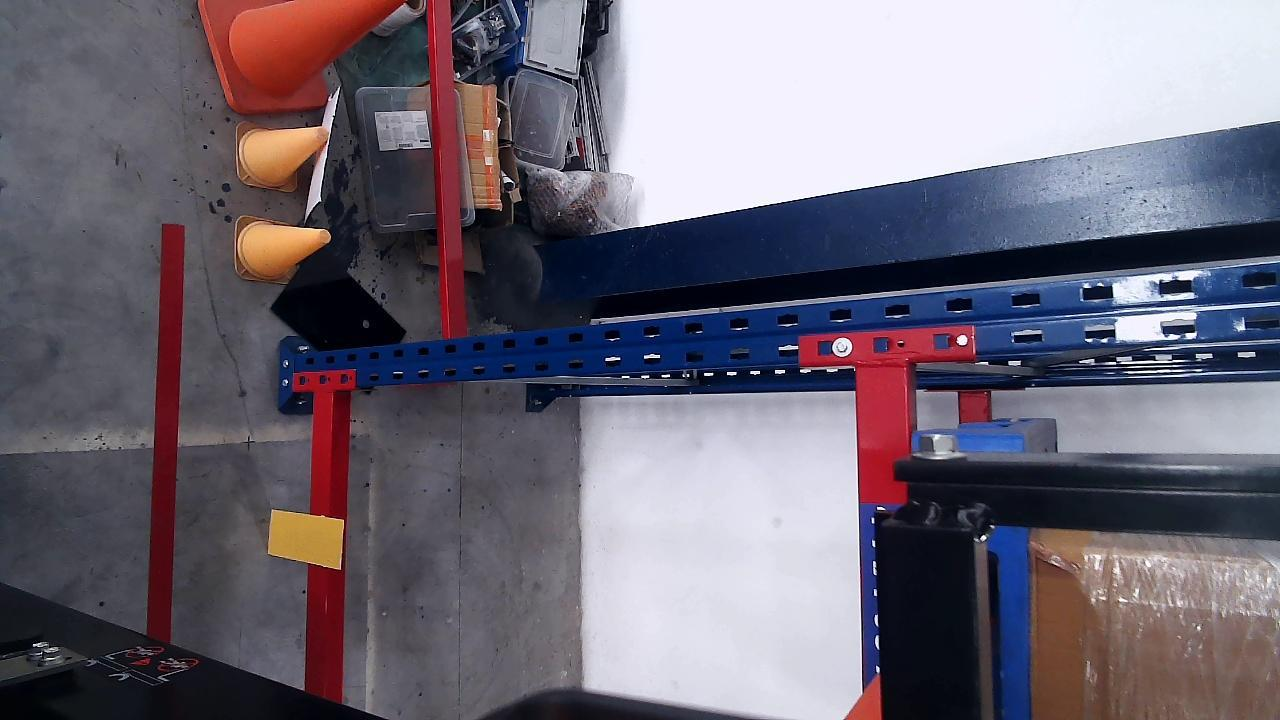h_rack: (306, 389, 332, 698)
orange_strip: (268, 512, 343, 571)
yellow_line: (150, 221, 183, 645)
